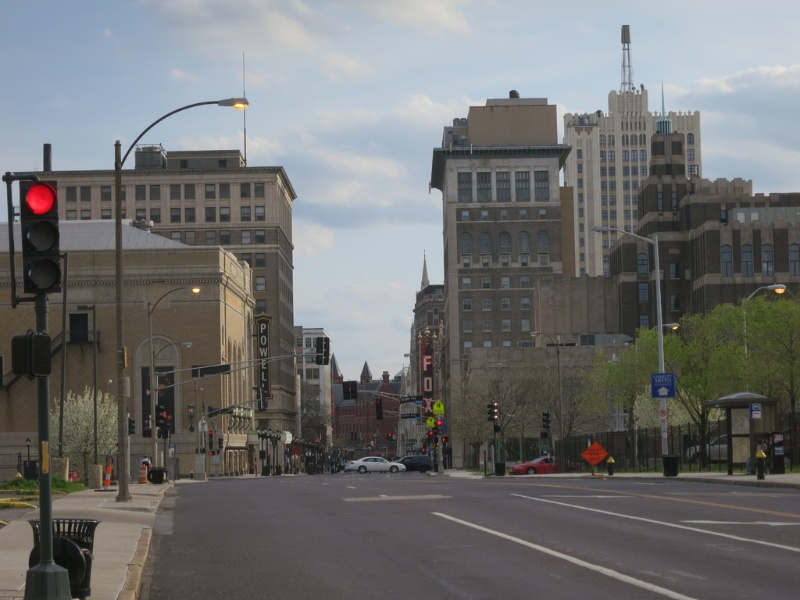red_light: (14, 176, 63, 219)
